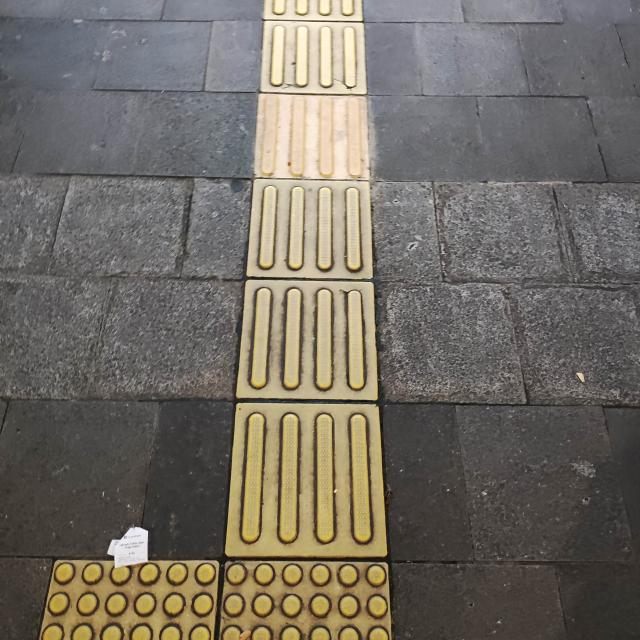lurus: (246, 15, 380, 555)
